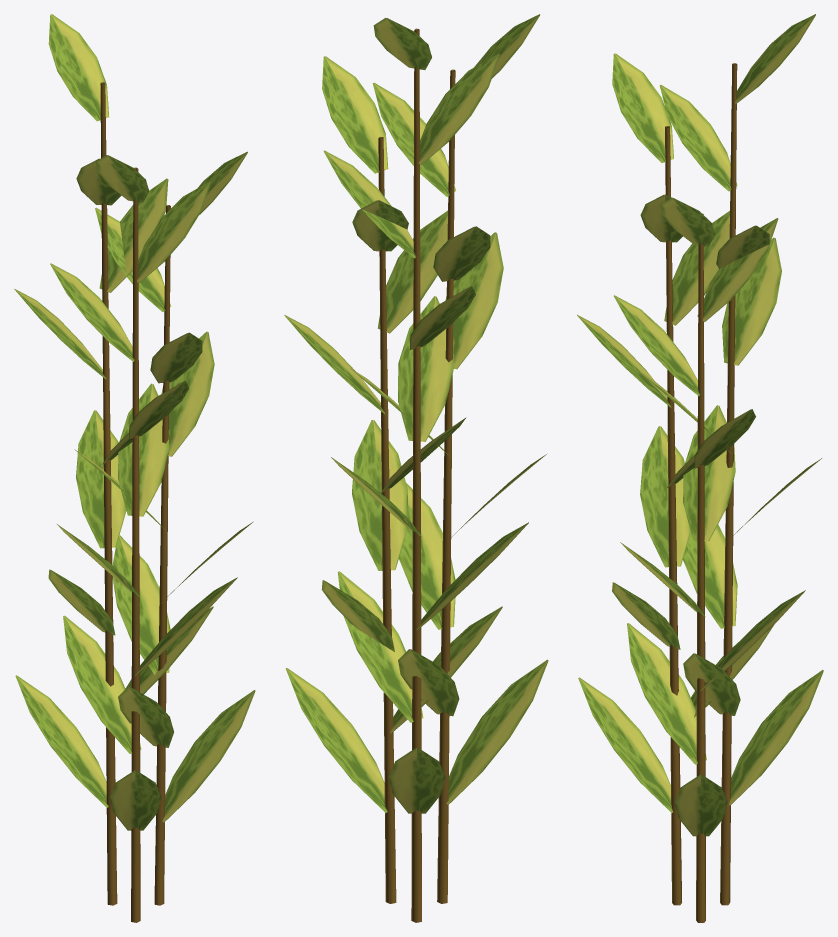
Rendered from giant_kelp.glb.
3 views of the same model, side by side, from view 1: azimuth 30°, elevation 25°; view 2: azimuth 150°, elevation 25°; view 3: azimuth 270°, elevation 25° (orthographic). The views are drawn at different scales.
Size of the model in its own units: 1.12 by 4.21 by 1.07.
Materials: 1 (1 with a texture image).
